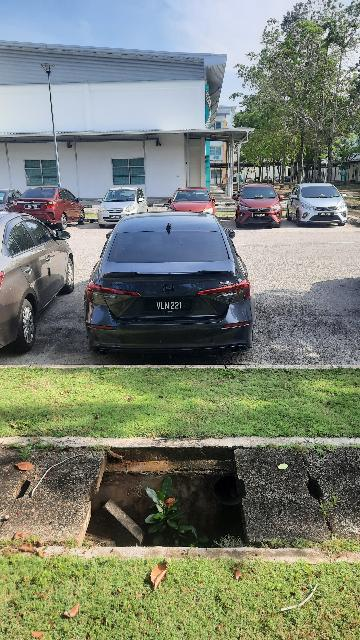License_Plate: (142, 297, 199, 316), (24, 205, 42, 210), (253, 214, 269, 219), (109, 216, 123, 221), (319, 213, 335, 217)
car: (83, 215, 256, 358), (1, 215, 77, 358), (15, 188, 88, 230), (288, 183, 351, 227), (233, 185, 286, 230), (99, 188, 150, 227), (169, 188, 218, 215)
